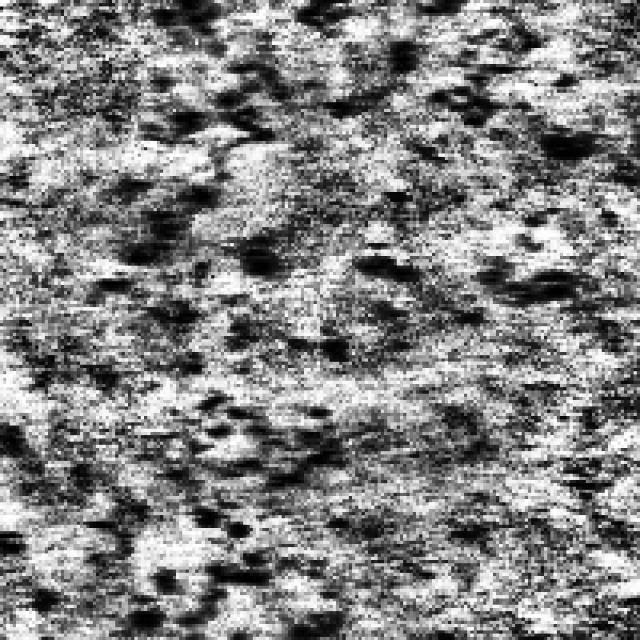Crazing: (304, 3, 582, 298), (86, 0, 285, 320), (141, 372, 336, 630)
